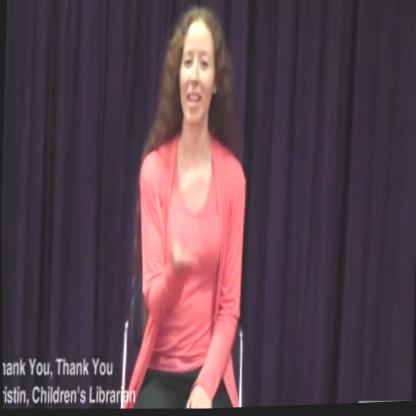ThankYou: (149, 1, 246, 319)
